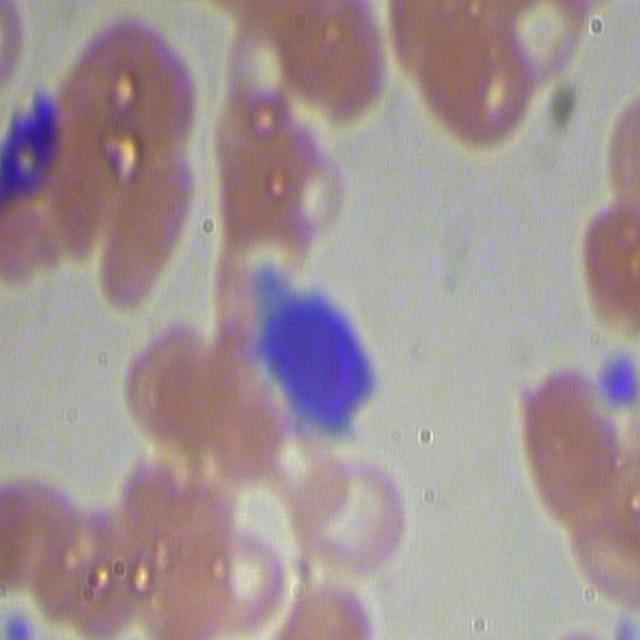WBC: (264, 296, 376, 437), (272, 4, 384, 114)
